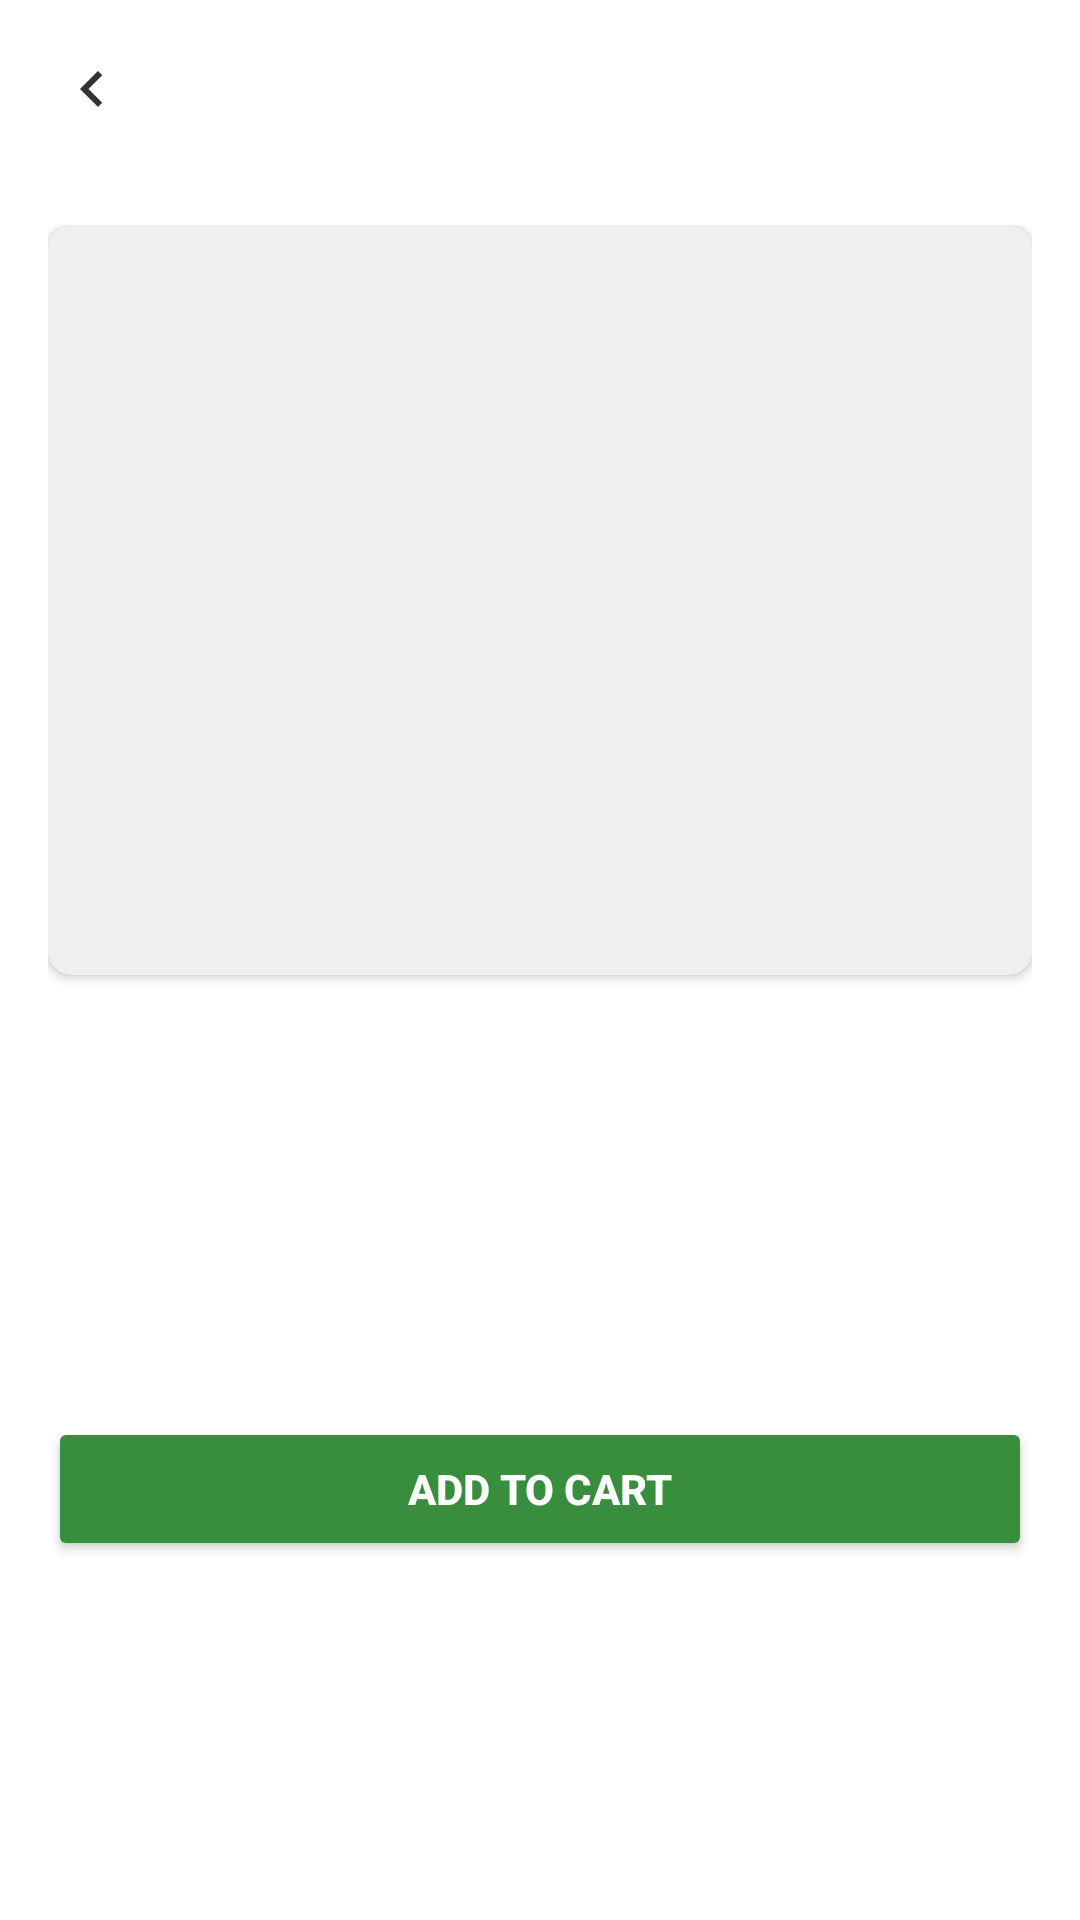

Where icons sit on this 1080*1920 app screen, as region(x1, y1, x2, y2):
Back Button: region(80, 71, 102, 107)
